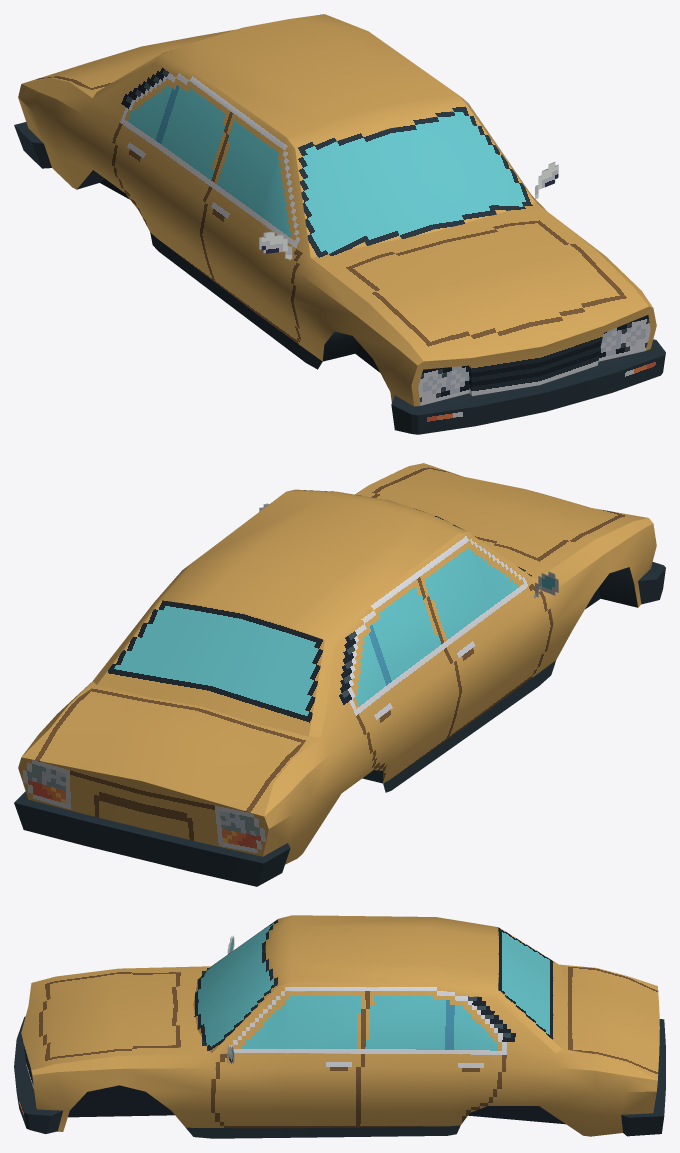
Rendered from peugeot504.glb.
3 views of the same model, one above another, from view 1: azimuth 30°, elevation 25°; view 2: azimuth 150°, elevation 25°; view 3: azimuth 270°, elevation 25° (orthographic). The views are drawn at different scales.
Visible parts, largest first — view 1: Body; view 2: Body; view 3: Body.
Boxes of the visible parts, x1,y1,x2,y2 form: Body: (14,14,665,434); Body: (14,463,665,886); Body: (14,915,665,1138).
Size of the model in its own units: 1.89 by 1.15 by 4.47.
Materials: 1 (1 with a texture image).
